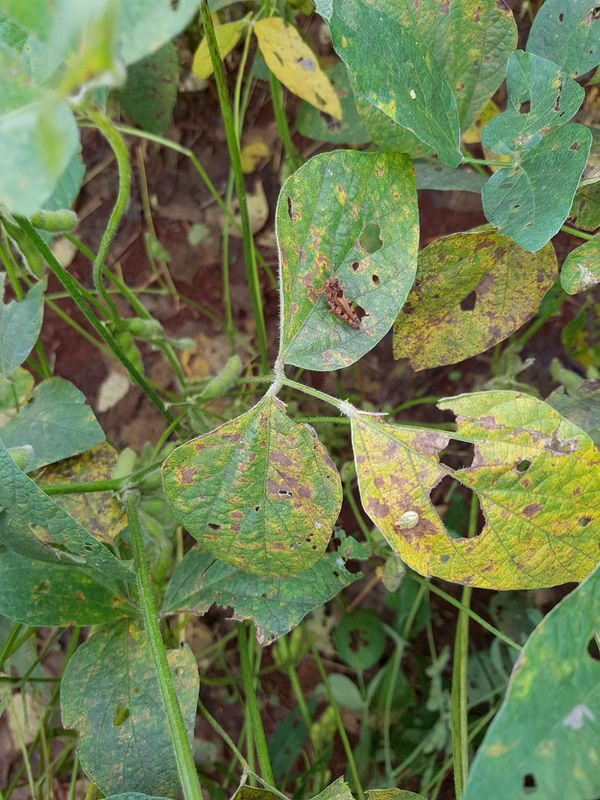Euschistus_heros_ninfa: (390, 506, 422, 536)
Rhammatocerus_schistocercoides: (303, 272, 372, 336)
